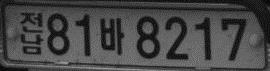1: (73, 13, 98, 57), (194, 17, 218, 60)
2: (164, 15, 189, 60)
7: (220, 17, 247, 61)
8: (136, 15, 161, 59), (46, 12, 70, 55)
바: (100, 17, 124, 55)
전남_V: (20, 11, 44, 54)
